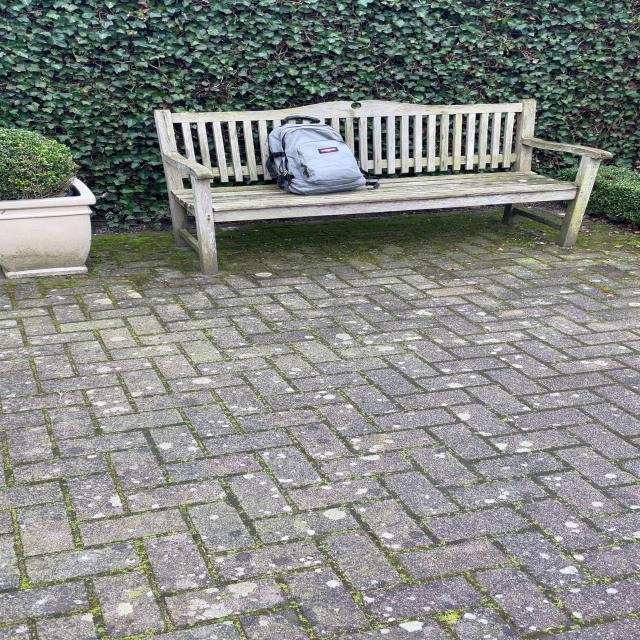backpack: (261, 114, 371, 196)
